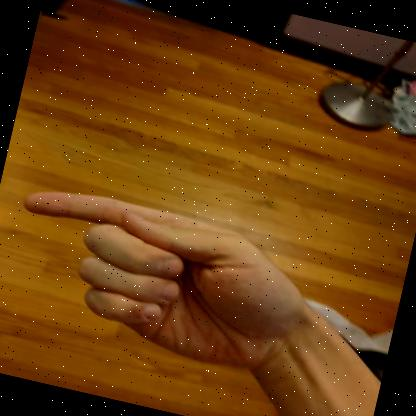G: (23, 192, 309, 388)
